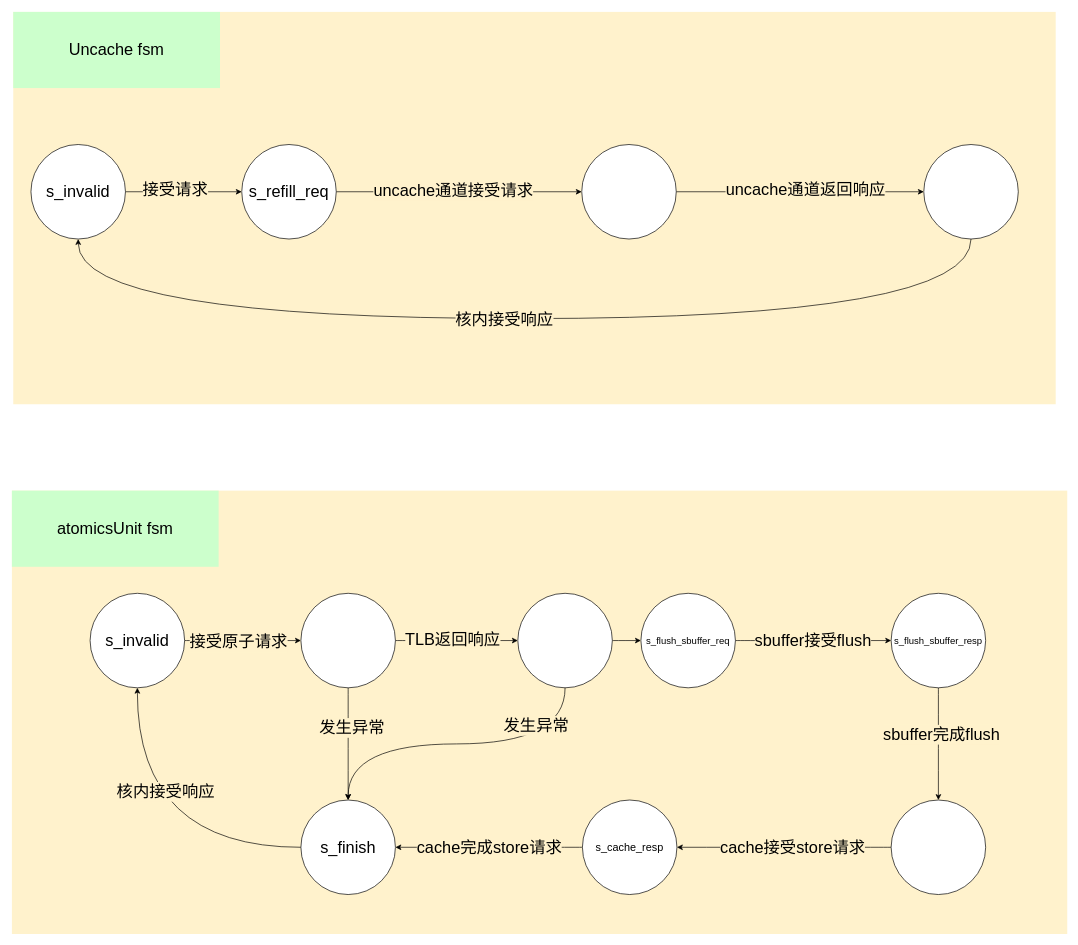
Some shapes in this 1078 by 945 pixel diagram are drawn without their labels. The shapes that lost their labels are listed below. From the top down, each one's centre as x and y in pixels, then its label:
the point at 628,191: s_refill_resp
the point at 970,191: s_send_resp
the point at 347,640: s_tlb
the point at 564,640: s_pm
the point at 938,847: s_cache_req
